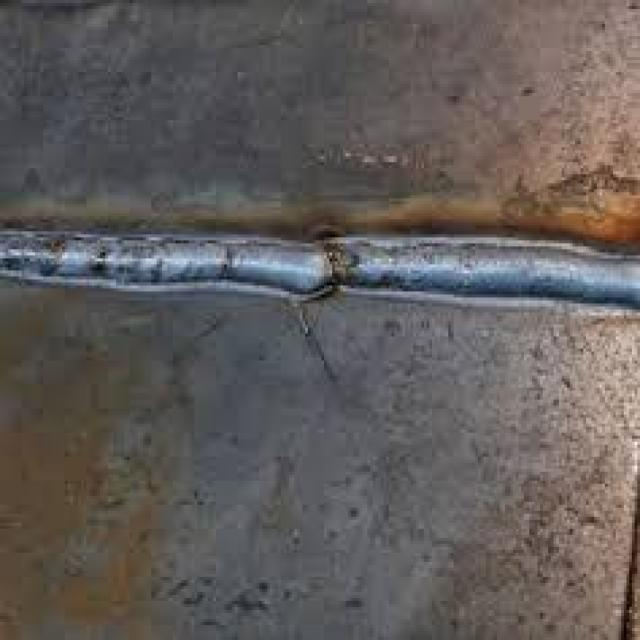Good Weld: (0, 216, 637, 312)
